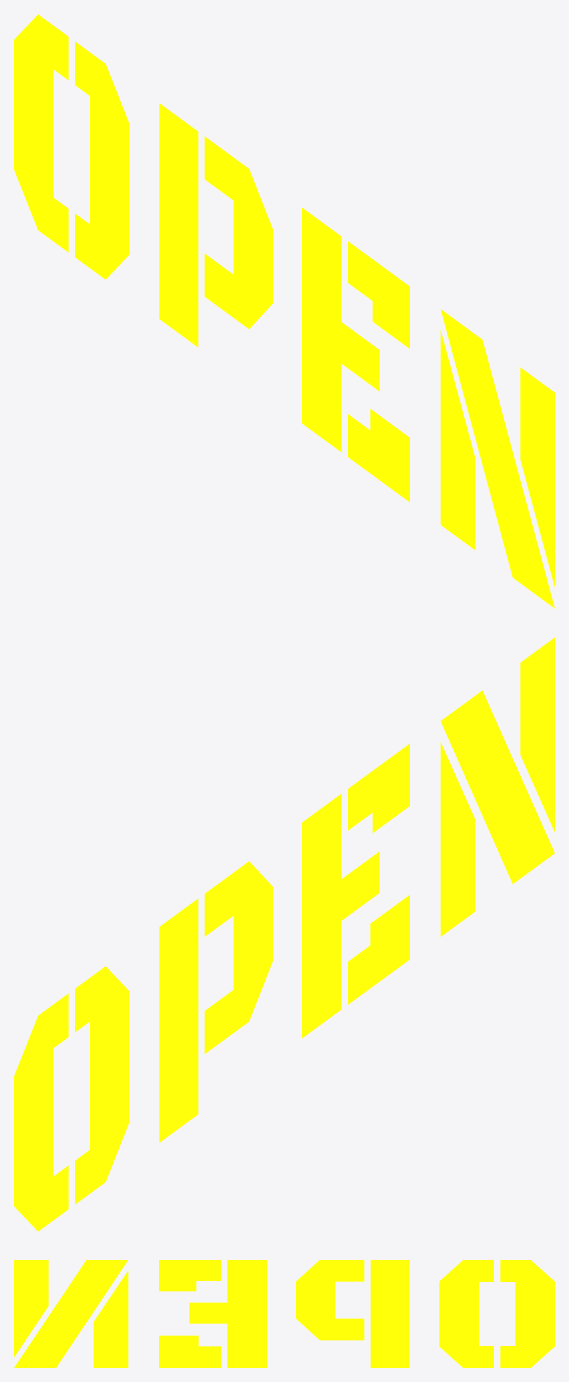
The model's file is Open_Txt.fbx.
3 views of the same model, one above another, from view 1: azimuth 30°, elevation 25°; view 2: azimuth 150°, elevation 25°; view 3: azimuth 270°, elevation 25° (orthographic). The views are drawn at different scales.
Parts seen in each view (by area): view 1: Open_txt; view 2: Open_txt; view 3: Open_txt.
Part boxes in pixels (x1,y1,x2,y2): Open_txt: [14, 14, 554, 608]; Open_txt: [14, 637, 554, 1231]; Open_txt: [14, 1260, 554, 1367].
Size of the model in its own units: 1.37e-05 by 36.29 by 165.
